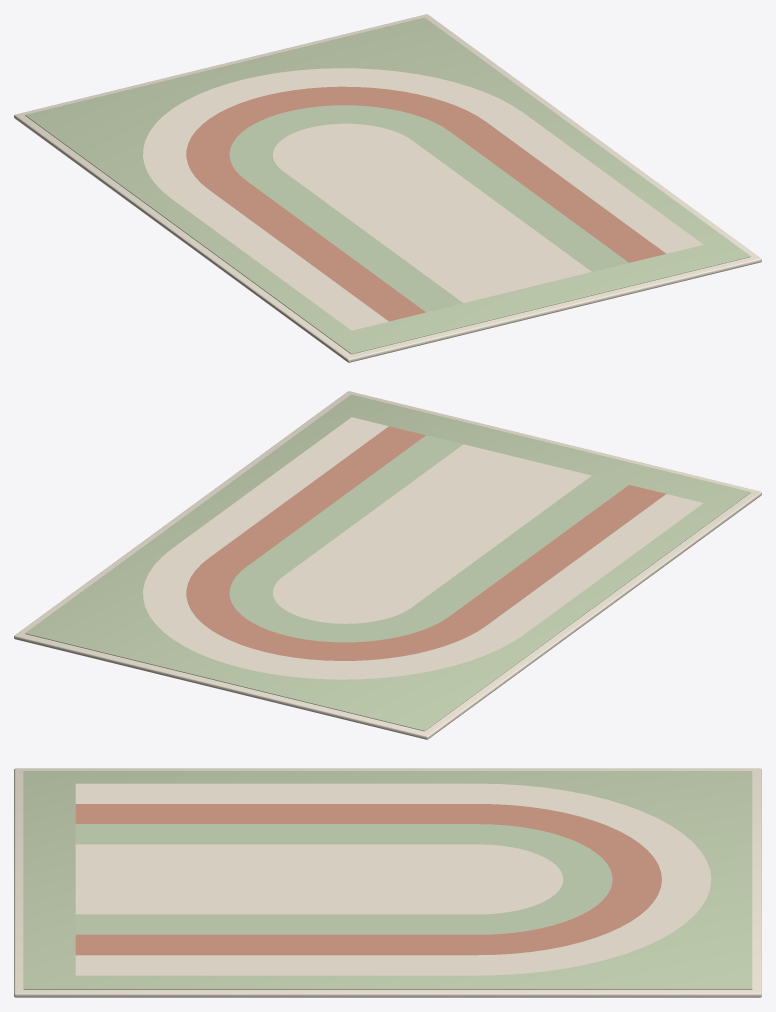
File: arch-color-rug.glb
The picture shows the model from 3 angles, top to bottom: view 1: azimuth 30°, elevation 25°; view 2: azimuth 150°, elevation 25°; view 3: azimuth 270°, elevation 25°; orthographic projection. The views are drawn at different scales.
Parts seen in each view (by area): view 1: arch-color-rug; view 2: arch-color-rug; view 3: arch-color-rug.
Part boxes in pixels (x1,y1,x2,y2): arch-color-rug: [14, 14, 761, 362]; arch-color-rug: [14, 391, 761, 739]; arch-color-rug: [14, 768, 761, 997].
Bounding box in the file's own units: 2 × 0.024 × 2.8.
